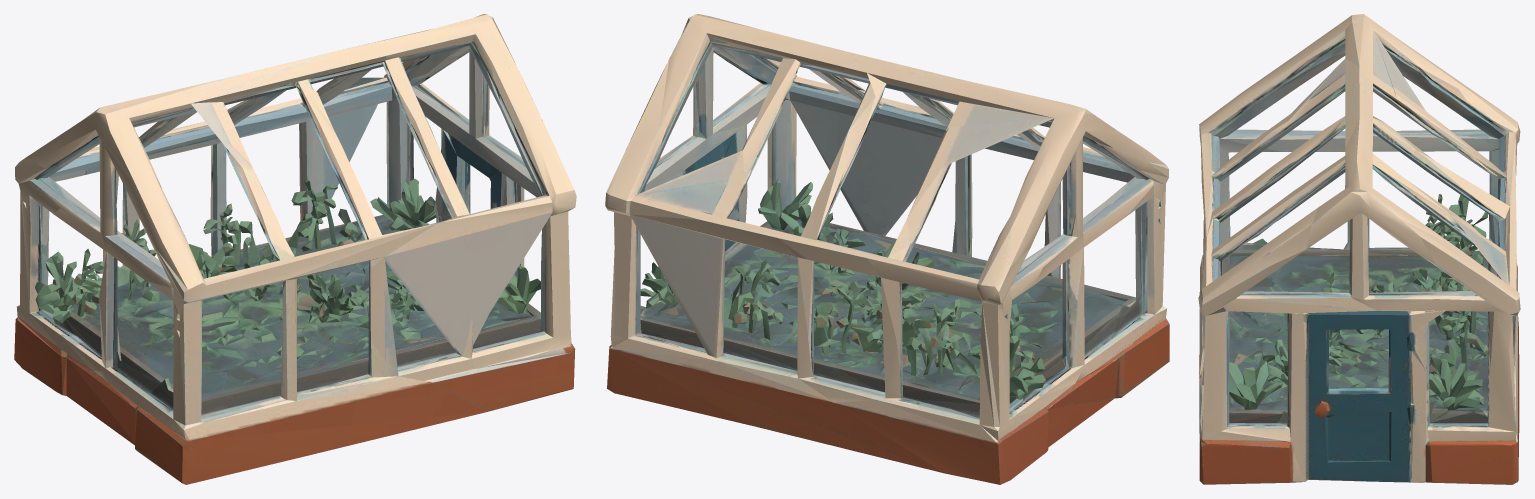
Rendered from greenhouse.glb.
3 renders of one model, left to right at view 1: azimuth 30°, elevation 25°; view 2: azimuth 150°, elevation 25°; view 3: azimuth 270°, elevation 25°, orthographic. The views are drawn at different scales.
Parts seen in each view (by area): view 1: Mesh_0; view 2: Mesh_0; view 3: Mesh_0.
Part boxes in pixels (x1,y1,x2,y2): Mesh_0: [14, 14, 576, 484]; Mesh_0: [605, 14, 1169, 484]; Mesh_0: [1198, 14, 1520, 484].
Size of the model in its own units: 3.2 by 2.37 by 2.34.
1 material, 1 textured.
